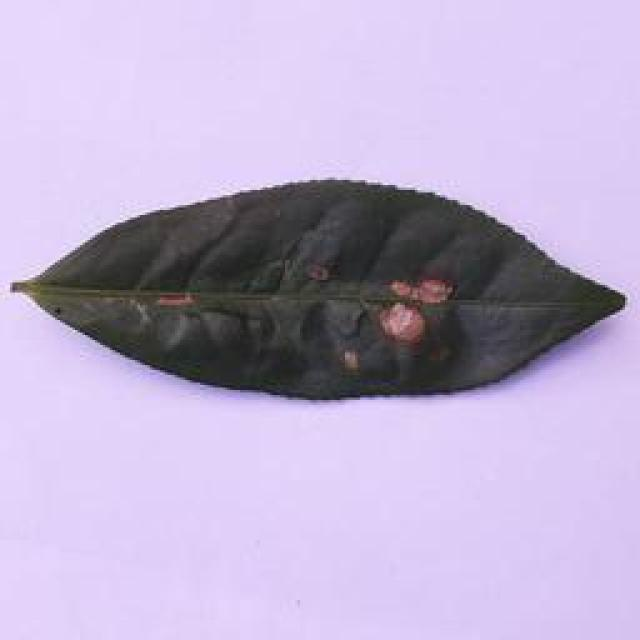Gray Blight: (11, 177, 630, 406)
